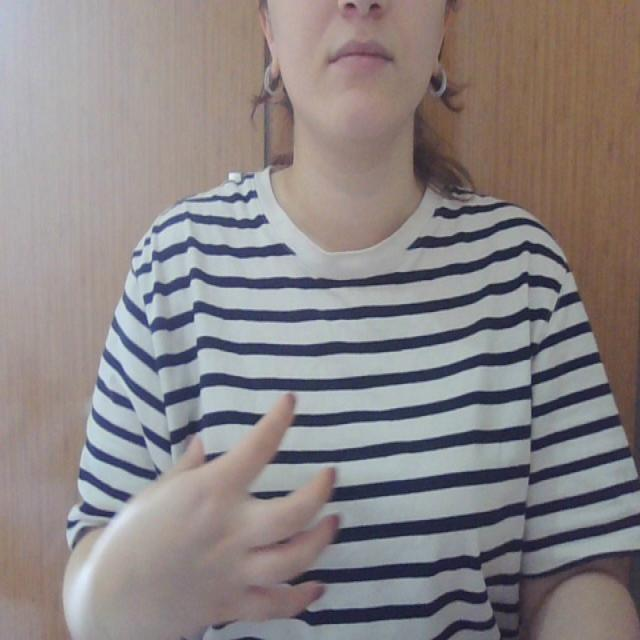Anne: (113, 379, 543, 640)
